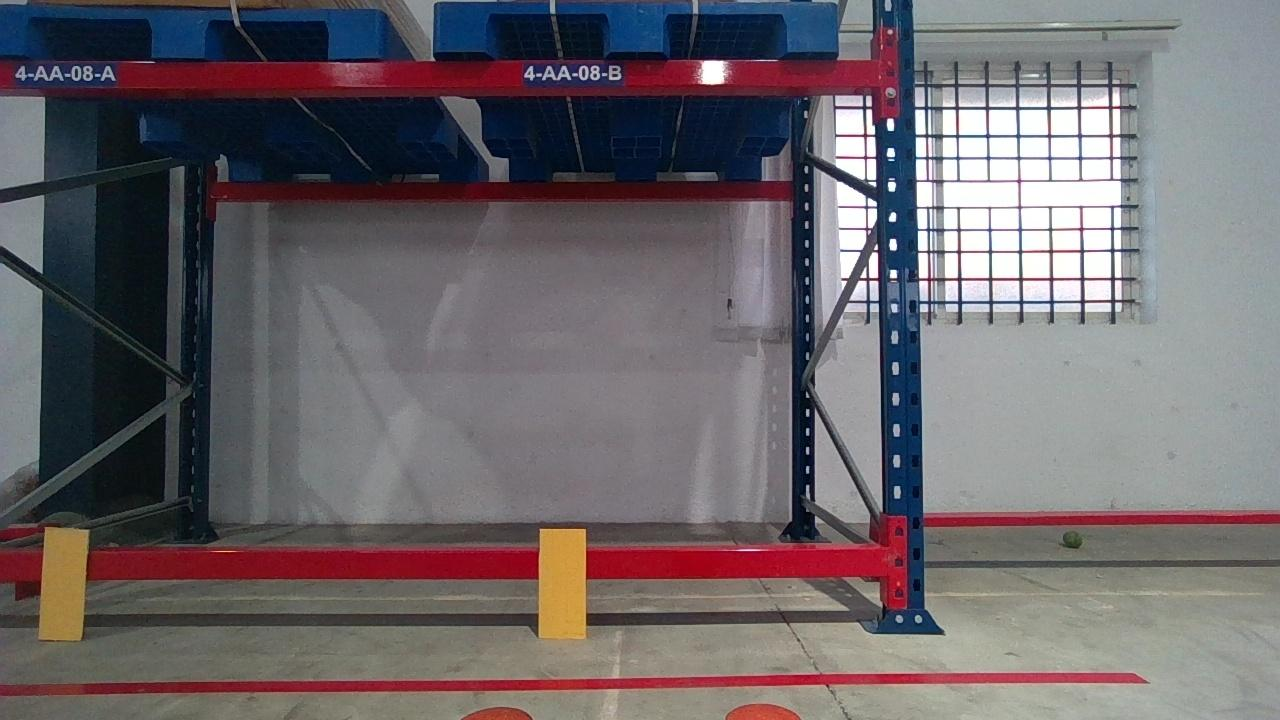h_rack: (2, 543, 886, 585), (3, 58, 887, 90)
orange_strip: (536, 527, 586, 637), (39, 529, 88, 640)
red_line: (2, 671, 1149, 702)
small_pallet: (429, 1, 840, 55), (0, 6, 383, 58)
